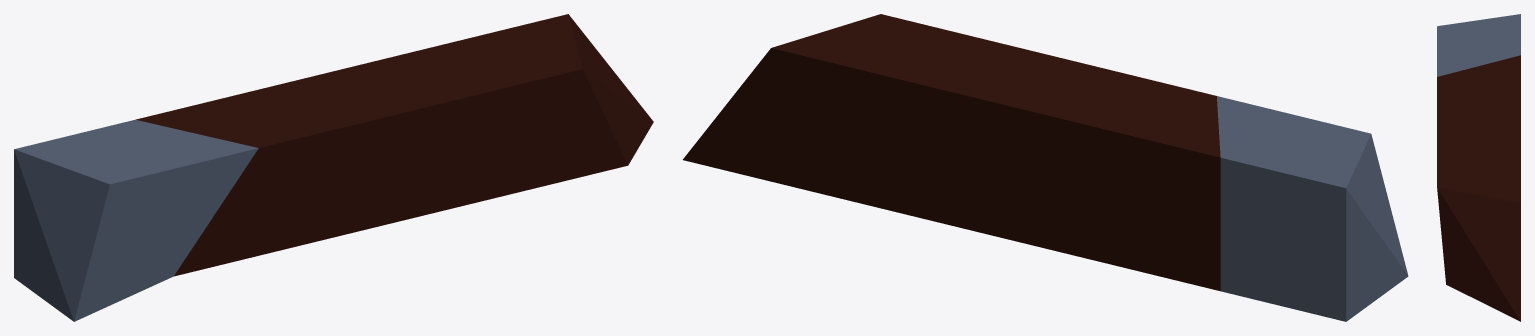
The model's file is Wreckage_4.fbx.
3 renders of one model, left to right at view 1: azimuth 30°, elevation 25°; view 2: azimuth 150°, elevation 25°; view 3: azimuth 270°, elevation 25°, orthographic. The views are drawn at different scales.
Parts seen in each view (by area): view 1: Wreckage_4; view 2: Wreckage_4; view 3: Wreckage_4.
Boxes of the visible parts, left/top/right/bottom form: Wreckage_4: left=14, top=14, right=653, bottom=321; Wreckage_4: left=683, top=14, right=1408, bottom=321; Wreckage_4: left=1437, top=14, right=1520, bottom=321.
Size of the model in its own units: 13.42 by 2.58 by 2.18.
